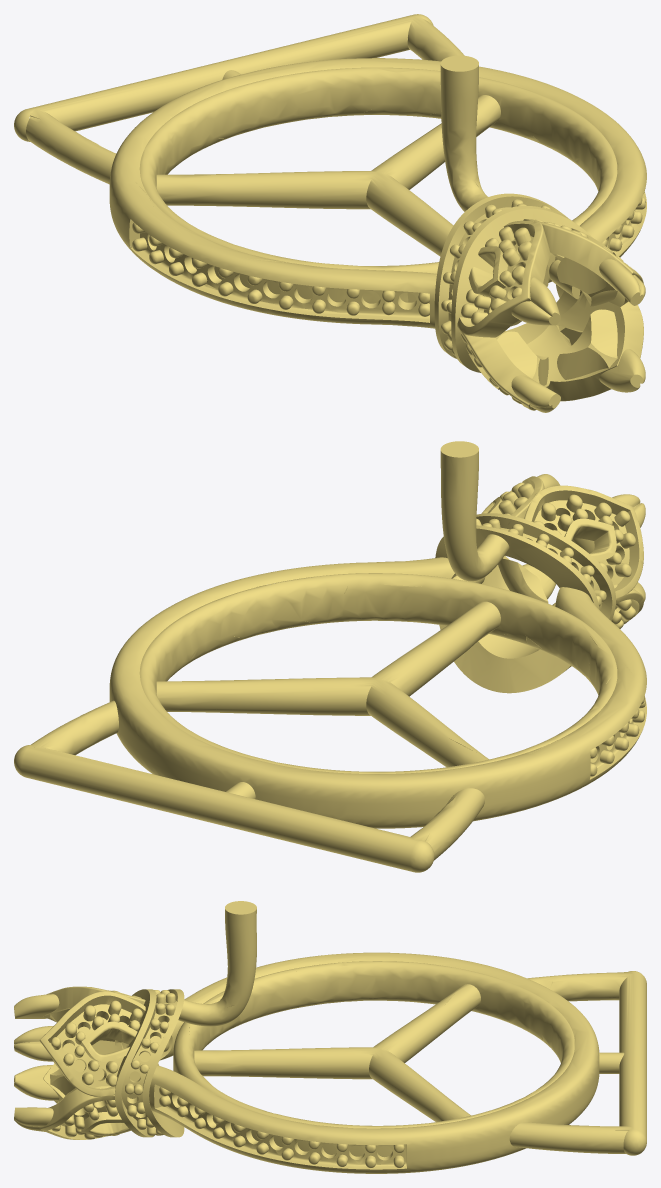
3 renders of one model, top to bottom at view 1: azimuth 30°, elevation 25°; view 2: azimuth 150°, elevation 25°; view 3: azimuth 270°, elevation 25°, orthographic. The views are drawn at different scales.
Parts seen in each view (by area): view 1: Renderer Node; view 2: Renderer Node; view 3: Renderer Node.
Part boxes in pixels (<box>): Renderer Node: <box>14,14,646,412</box>; Renderer Node: <box>14,441,646,872</box>; Renderer Node: <box>14,901,646,1173</box>.
Bounding box in the file's own units: 20.83 × 11.77 × 29.62.
